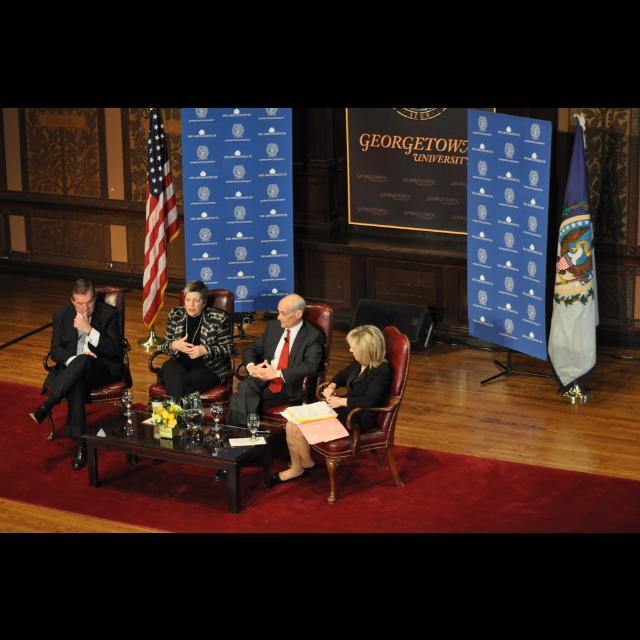Flower: (150, 402, 184, 424), (166, 420, 178, 428)
